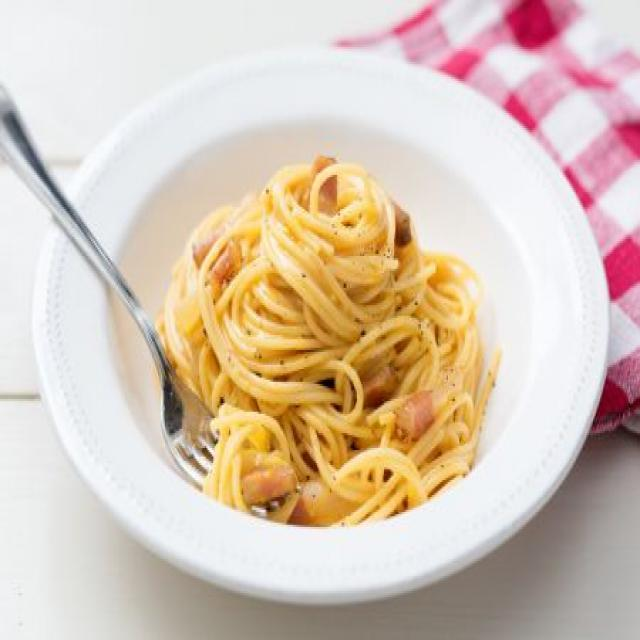Pasta with carbonara sauce: (125, 130, 539, 542)
